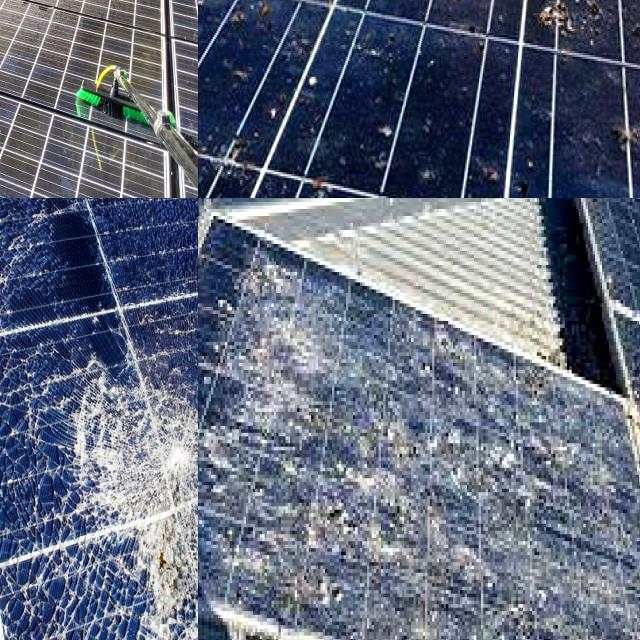bird: (226, 382, 382, 506), (394, 336, 511, 472), (198, 528, 349, 612), (527, 362, 614, 492), (540, 531, 638, 634), (205, 234, 301, 338), (357, 96, 440, 192), (371, 578, 494, 640), (439, 0, 549, 62), (198, 0, 281, 62), (198, 0, 300, 48), (249, 0, 341, 52), (345, 0, 407, 74), (198, 430, 236, 543), (537, 0, 611, 47), (473, 0, 535, 51), (572, 0, 640, 37), (590, 0, 640, 44), (198, 137, 233, 198), (282, 154, 318, 198), (604, 119, 640, 157), (445, 0, 515, 17), (304, 67, 328, 116), (198, 123, 219, 170), (198, 0, 233, 20)
dust: (32, 0, 166, 51), (0, 0, 87, 61), (0, 0, 59, 86), (0, 0, 59, 47), (0, 0, 72, 25), (0, 0, 53, 27)
hotspot: (65, 348, 198, 640)
